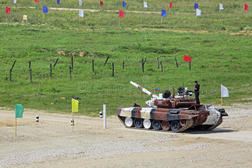t72: (119, 78, 226, 132)
